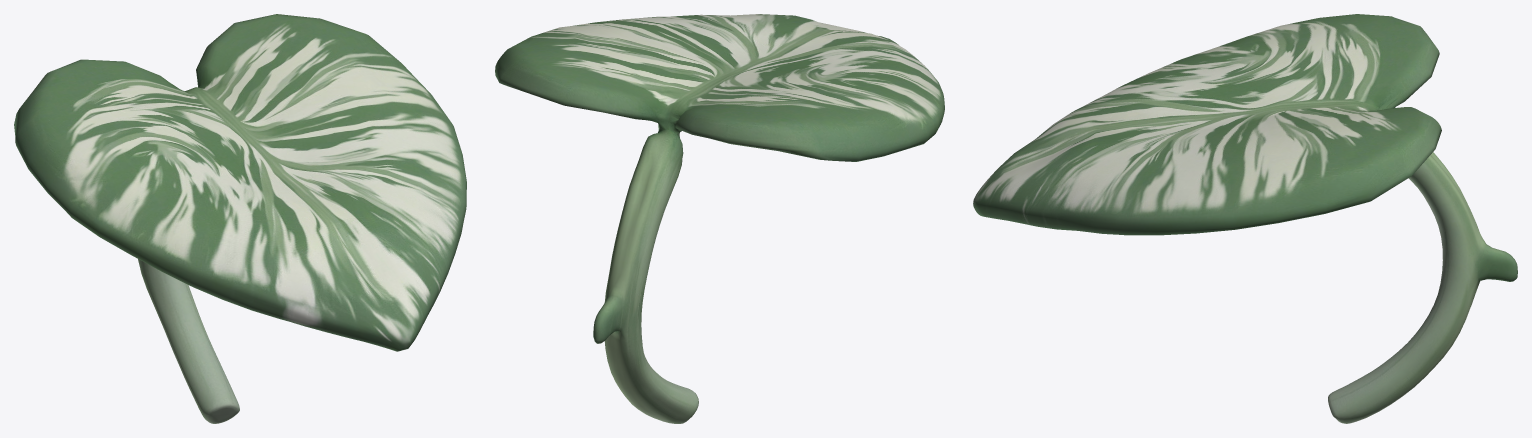
File: pothos_marble_whitegreen.glb
3 renders of one model, left to right at view 1: azimuth 30°, elevation 25°; view 2: azimuth 150°, elevation 25°; view 3: azimuth 270°, elevation 25°, orthographic. The views are drawn at different scales.
Bounding box in the file's own units: 1.54 × 1.37 × 2.
1 material, 1 textured.
